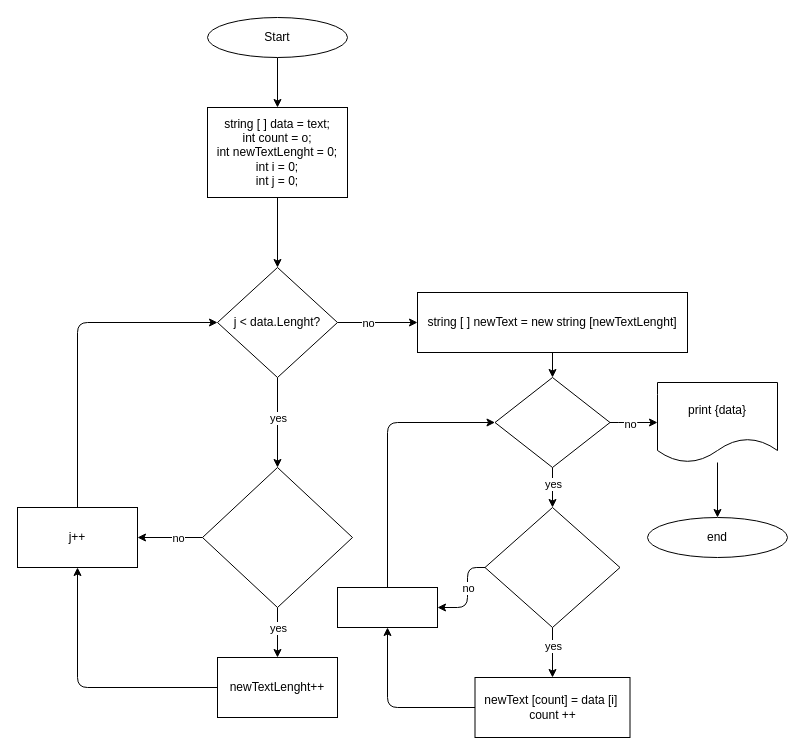
This 805x755 diagram has some shape labels left out. Each missing label, with the centre of its shape:
"data [i].Lenght <= 3?" goes at point 552,567.
"data [j].Lenght <= 3?" goes at point 277,537.
"i < data.Lenght?" goes at point 552,422.
"i++" goes at point 387,607.
